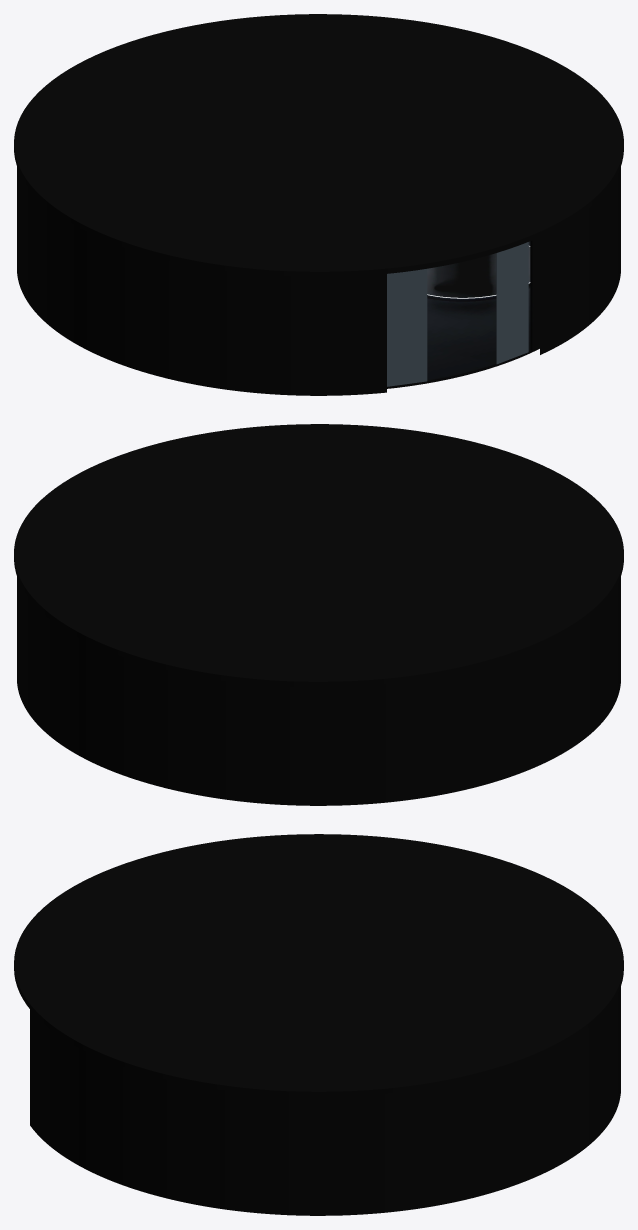
The model's file is showroom.glb.
The picture shows the model from 3 angles, top to bottom: view 1: azimuth 30°, elevation 25°; view 2: azimuth 150°, elevation 25°; view 3: azimuth 270°, elevation 25°; orthographic projection.
Visible parts, largest first — view 1: SR_Ceiling, SR_Walls, SR_Glass, SR_Floor, SR_Plinths; view 2: SR_Ceiling, SR_Walls; view 3: SR_Ceiling, SR_Walls.
Part boxes in pixels (x1=…): SR_Ceiling: x1=14, y1=14, x2=623, y2=276; SR_Walls: x1=17, y1=167, x2=620, y2=395; SR_Glass: x1=387, y1=242, x2=528, y2=386; SR_Floor: x1=387, y1=241, x2=539, y2=388; SR_Plinths: x1=427, y1=246, x2=530, y2=301; SR_Ceiling: x1=14, y1=424, x2=623, y2=686; SR_Walls: x1=17, y1=577, x2=620, y2=805; SR_Ceiling: x1=14, y1=834, x2=623, y2=1096; SR_Walls: x1=30, y1=987, x2=620, y2=1215.
Size of what is drawn, in the model's own units: 21.2 by 4.9 by 21.2.
8 materials, 4 textured.
